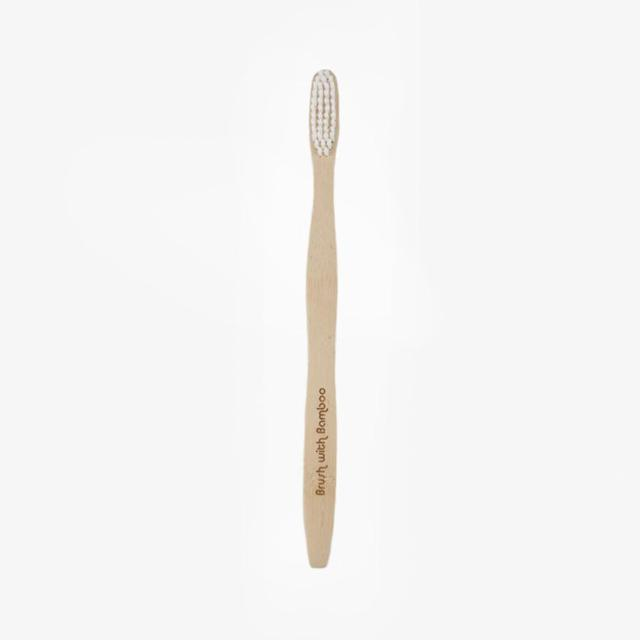toothbrush: (278, 46, 364, 562)
